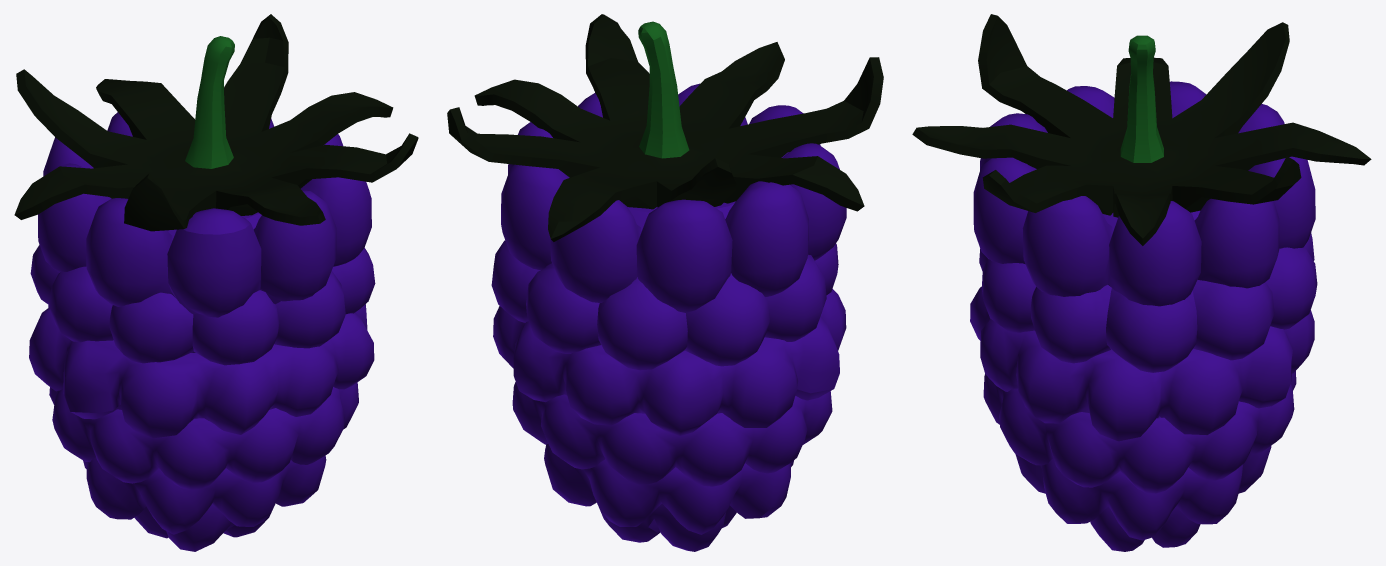
File: Blackberry.FBX
3 views of the same model, side by side, from view 1: azimuth 30°, elevation 25°; view 2: azimuth 150°, elevation 25°; view 3: azimuth 270°, elevation 25° (orthographic). The views are drawn at different scales.
Parts seen in each view (by area): view 1: Blackberry; view 2: Blackberry; view 3: Blackberry.
Part boxes in pixels (<box>): Blackberry: <box>14,14,418,551</box>; Blackberry: <box>447,14,883,551</box>; Blackberry: <box>912,14,1371,551</box>.
Bounding box in the file's own units: 1066 × 1083 × 1327.
